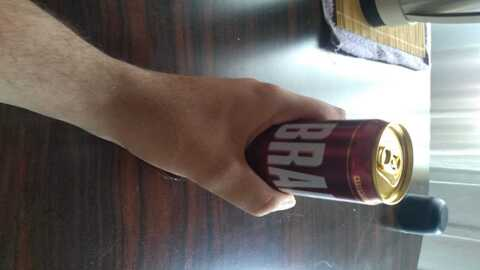duplo_malte: (210, 114, 416, 205)
